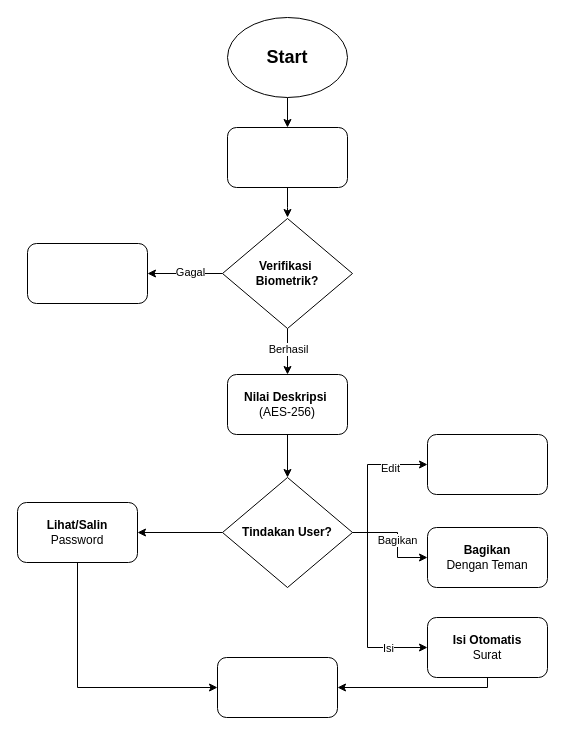
Some shapes in this 565 by 735 pixel diagram are drawn without their labels. The centre of each missing label's shape, as x and y in pixels:
"Akses Ditolak Upaya Login" belongs at point (87, 273).
"Catatan Aktivitas" belongs at point (277, 687).
"Tanggapan Otomatis" belongs at point (487, 464).
"User Masuk" belongs at point (287, 157).
